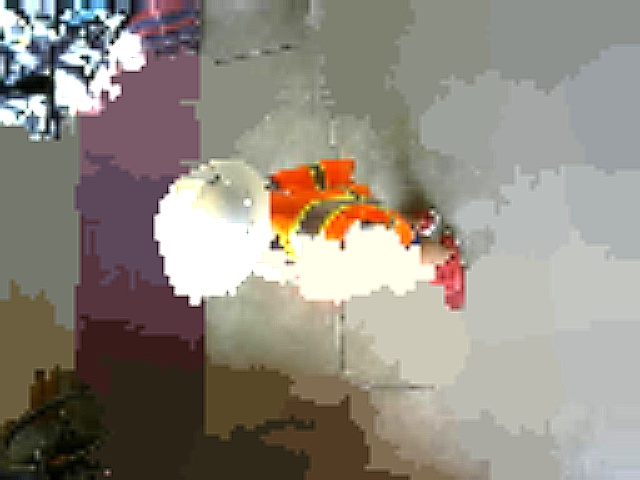two: (174, 167, 219, 182)
